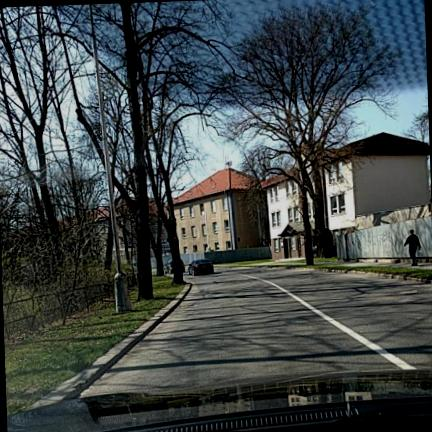Road: (82, 268, 431, 395)
